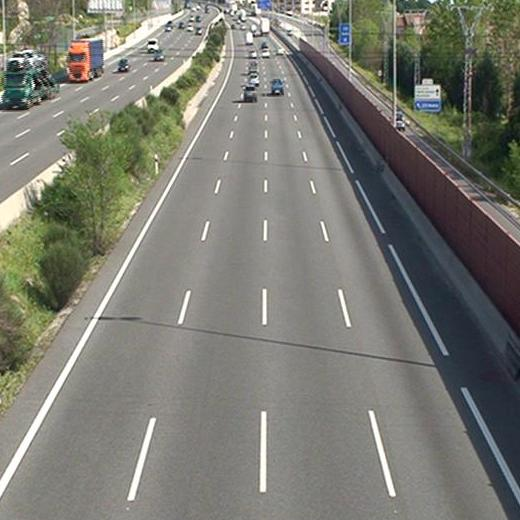car: (271, 78, 284, 94), (243, 85, 256, 100), (248, 73, 259, 85), (249, 60, 258, 71)
